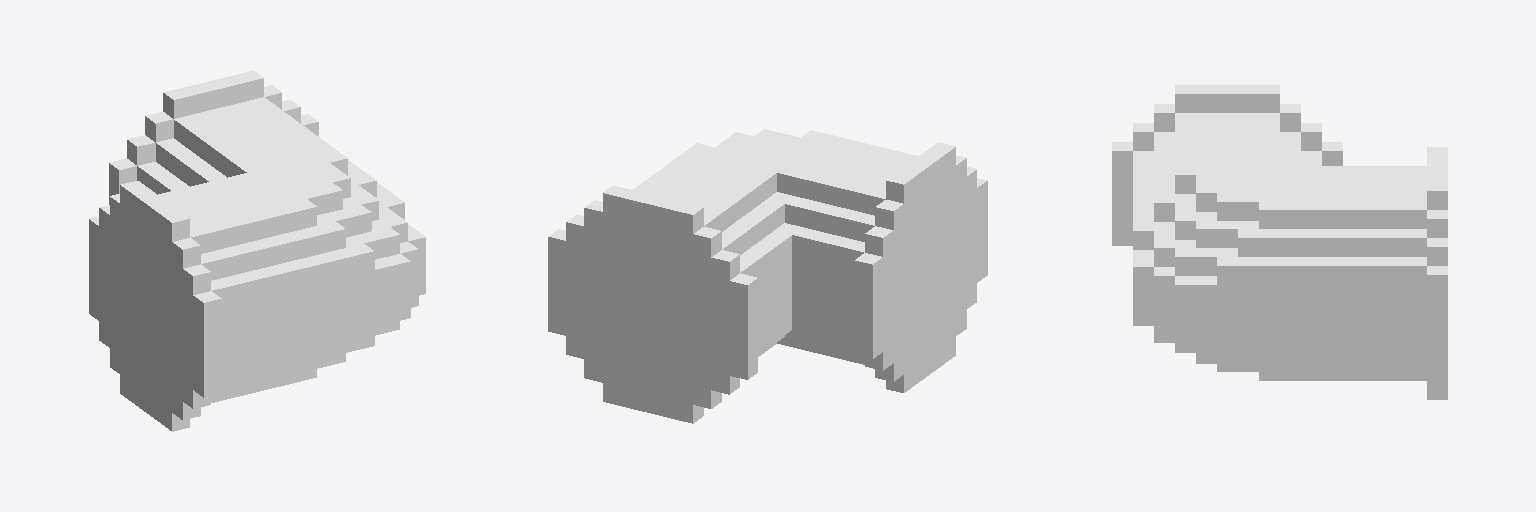
File: 27-Tuberias-L.obj
3 renders of one model, left to right at view 1: azimuth 30°, elevation 25°; view 2: azimuth 150°, elevation 25°; view 3: azimuth 270°, elevation 25°, orthographic.
Parts seen in each view (by area): view 1: object 1; view 2: object 1; view 3: object 1.
Boxes of the visible parts, x1=… form: object 1: x1=89, y1=70, x2=425, y2=431; object 1: x1=548, y1=129, x2=987, y2=423; object 1: x1=1112, y1=85, x2=1447, y2=399.
Size of the model in its own units: 1.5 by 1.1 by 1.6.